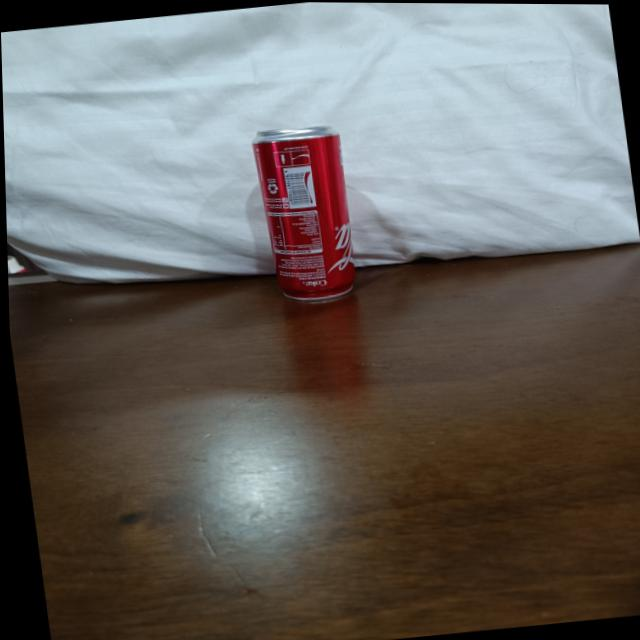coke: (250, 123, 362, 310)
